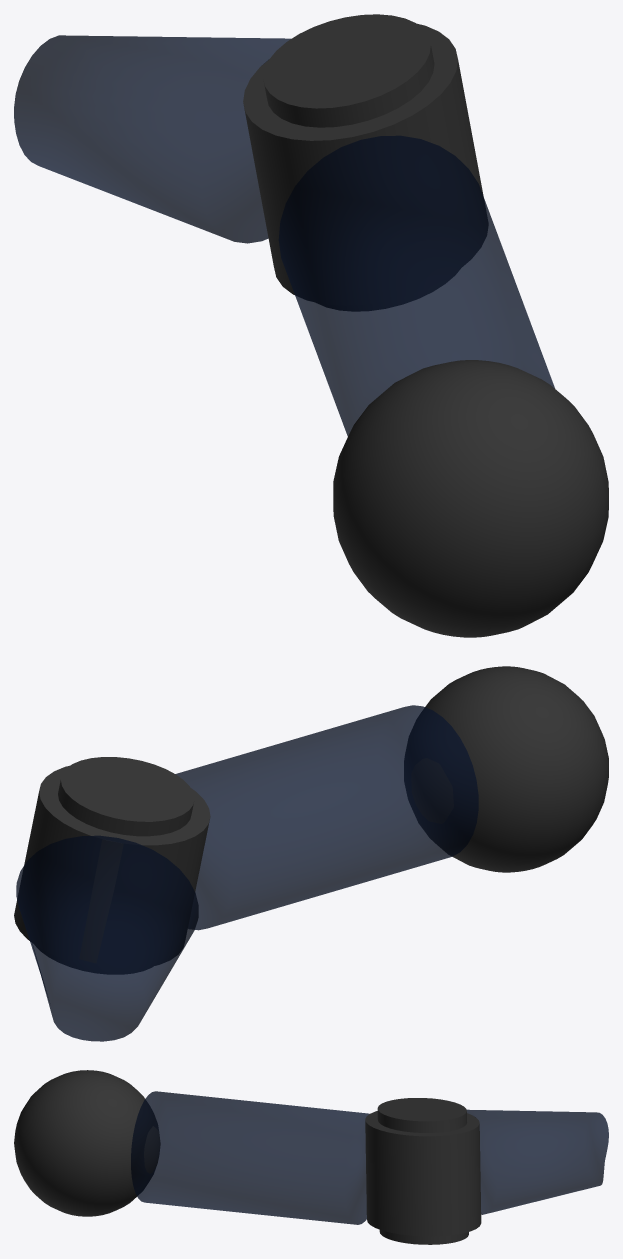
Rendered from right thumb.fbx.
The picture shows the model from 3 angles, top to bottom: view 1: azimuth 30°, elevation 25°; view 2: azimuth 150°, elevation 25°; view 3: azimuth 270°, elevation 25°; orthographic projection. The views are drawn at different scales.
Parts seen in each view (by area): view 1: Right_Thumb Joint 1, Right_Thumb Body, Right_Thumb Joint 2, Right_Thumb Tip, Right_Thumb Joint 2.001; view 2: Right_Thumb Body, Right_Thumb Joint 1, Right_Thumb Tip, Right_Thumb Joint 2, Right_Thumb Joint 2.001; view 3: Right_Thumb Body, Right_Thumb Joint 1, Right_Thumb Joint 2, Right_Thumb Tip, Right_Thumb Joint 2.001.
Boxes of the visible parts, x1,y1,x2,y2 form: Right_Thumb Joint 1: [333, 360, 608, 637]; Right_Thumb Body: [278, 135, 555, 436]; Right_Thumb Joint 2: [243, 23, 487, 304]; Right_Thumb Tip: [14, 35, 291, 243]; Right_Thumb Joint 2.001: [263, 14, 457, 310]; Right_Thumb Body: [175, 705, 478, 930]; Right_Thumb Joint 1: [404, 666, 608, 872]; Right_Thumb Tip: [16, 835, 198, 1041]; Right_Thumb Joint 2: [14, 765, 210, 968]; Right_Thumb Joint 2.001: [36, 757, 194, 973]; Right_Thumb Body: [131, 1091, 369, 1224]; Right_Thumb Joint 1: [14, 1070, 160, 1216]; Right_Thumb Joint 2: [365, 1111, 481, 1236]; Right_Thumb Tip: [466, 1109, 608, 1214]; Right_Thumb Joint 2.001: [377, 1098, 468, 1244].
Size of the model in its own units: 65.36 by 41.78 by 143.
